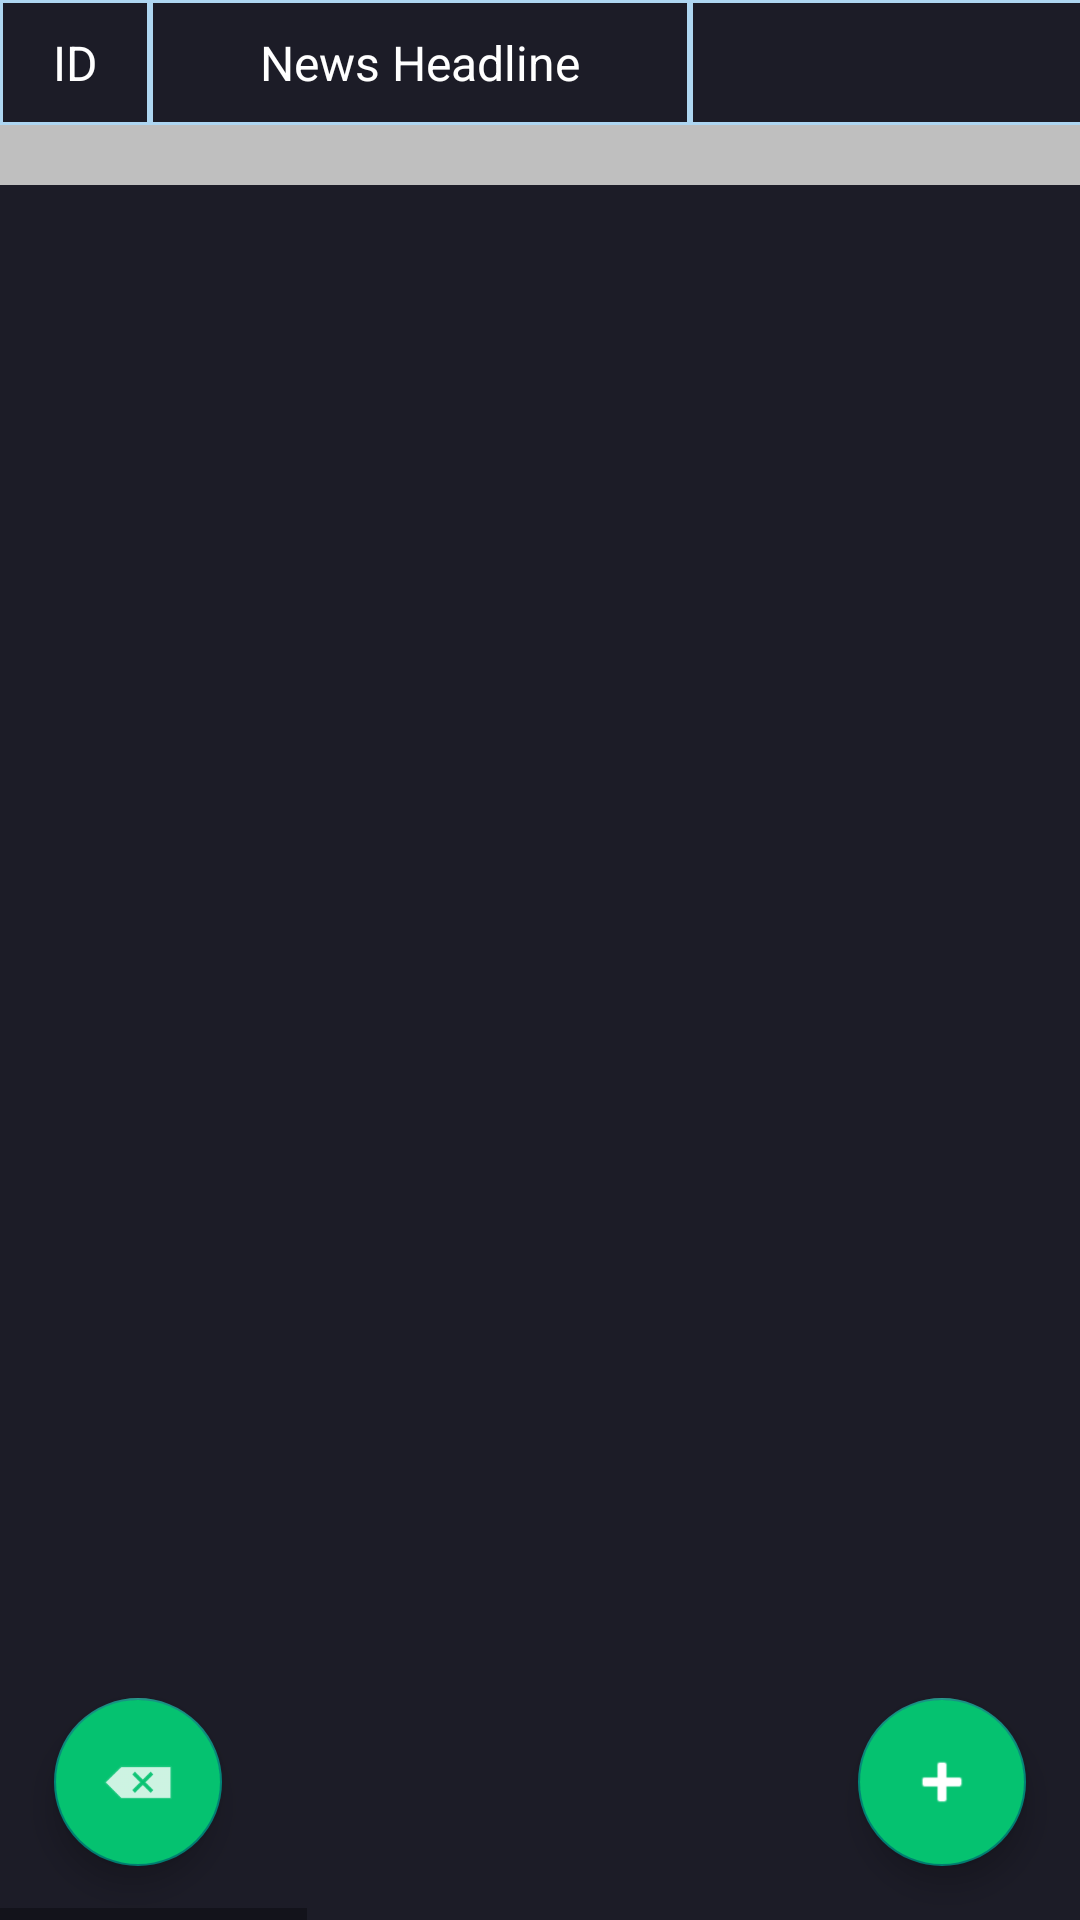

Where to tap for icons on this 1080px x 1920px app screen, as [x,y]:
add: [942,1782]
delete: [138,1782]
